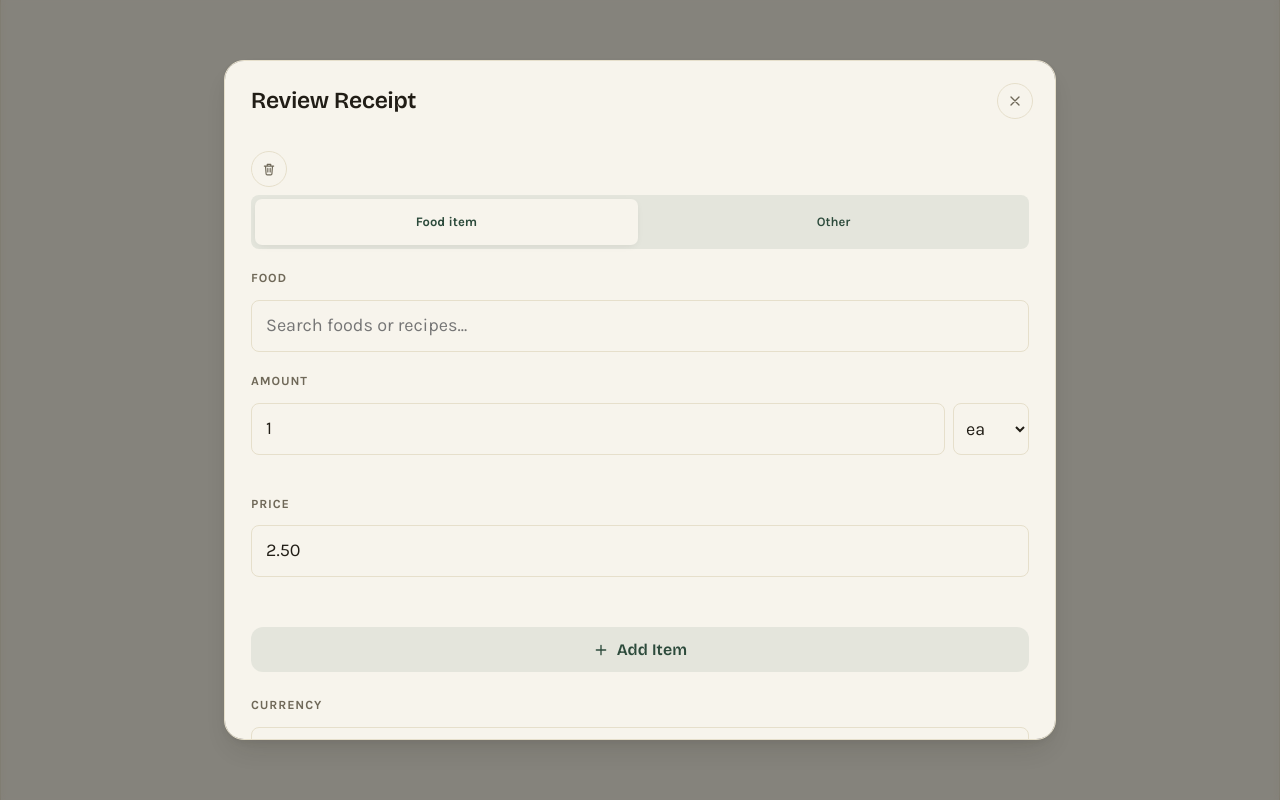
Scenario: ReceiptReviewModal — food row uses a search autocomplete, not a dropdown › shows a plain empty message instead of "+ New Food" when nothing matches
Step 1. Type "zzz-no-match" into the field with placeholder "Search foods or recipes..." → (640, 326), box [251,300,1029,352]
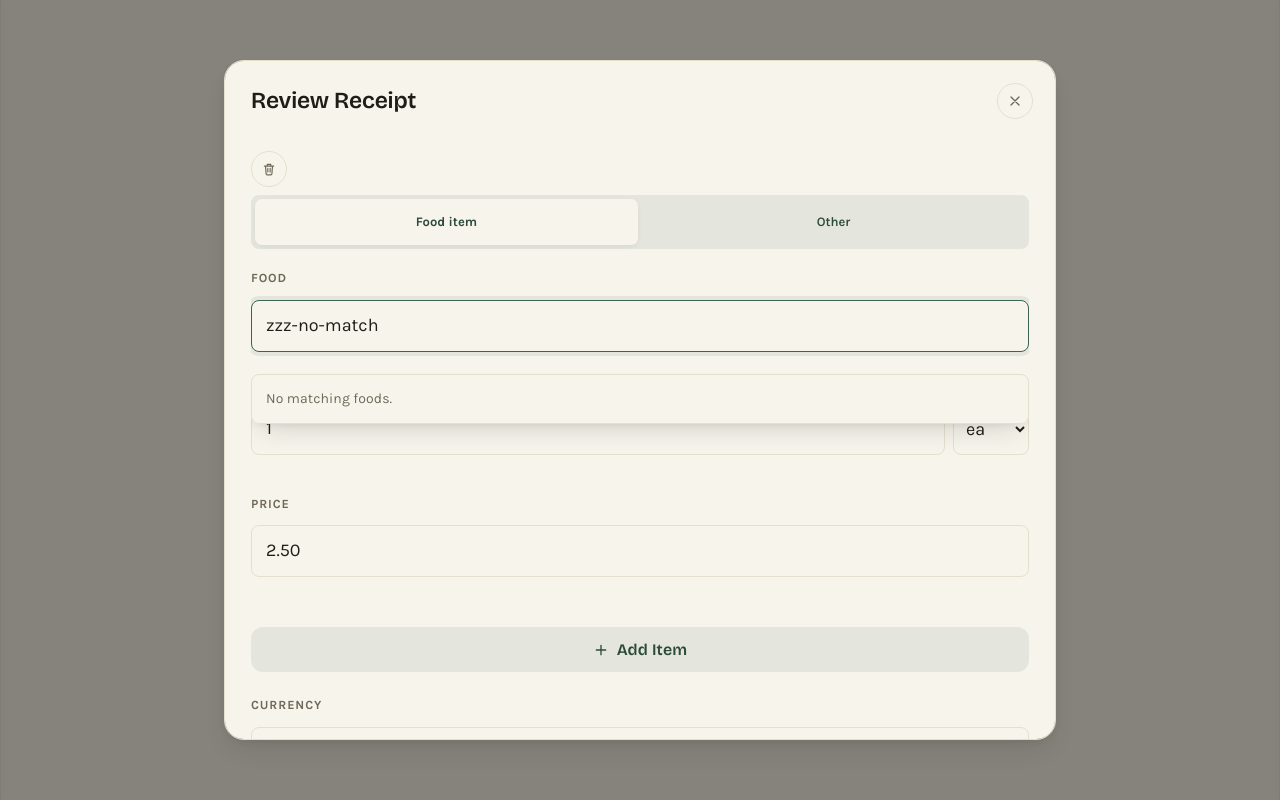
Now the text "No matching foods." is shown, box [251,374,1029,424]
